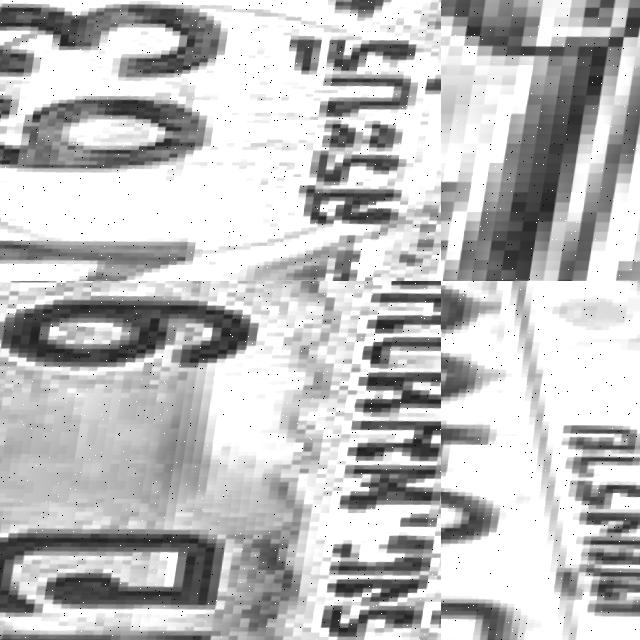license-plate: (0, 281, 441, 640), (0, 0, 441, 281), (441, 281, 640, 640), (441, 0, 592, 281)
